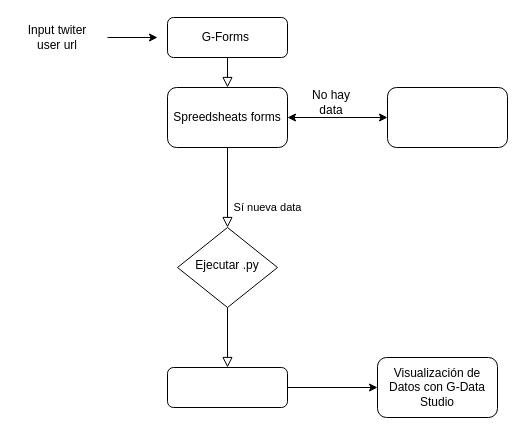
Some shapes in this 525 by 435 pixel diagram are drawn without their labels. Here are the shapes that lost their labels. From the top down, the centre of each, then its label:
At (447,117): "No cambiar los resultados de la visualización de Google Data Studio".
At (227,387): "Spreedsheats Resultados .py".
